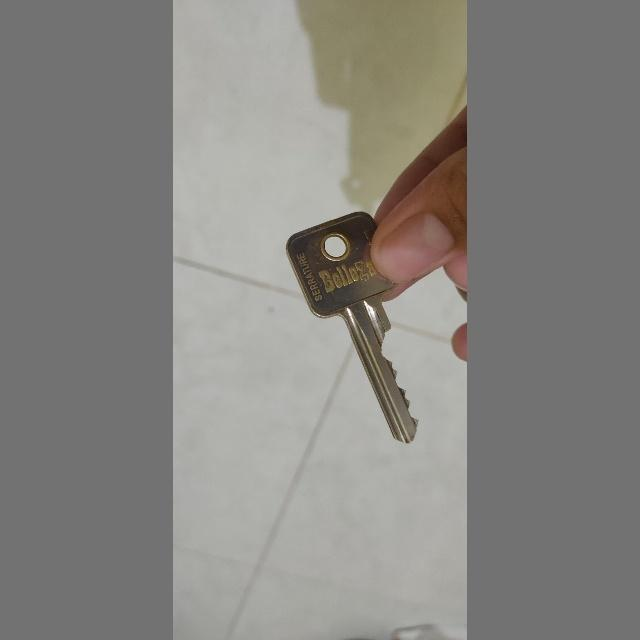Keys: (278, 212, 422, 452)
